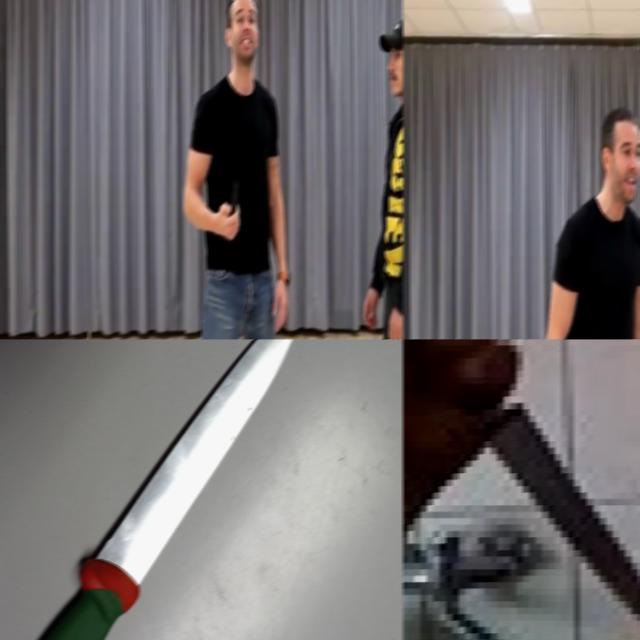Knife: (39, 339, 293, 640), (480, 407, 640, 622)
Knife_Handle: (402, 339, 640, 640), (218, 177, 240, 240)
